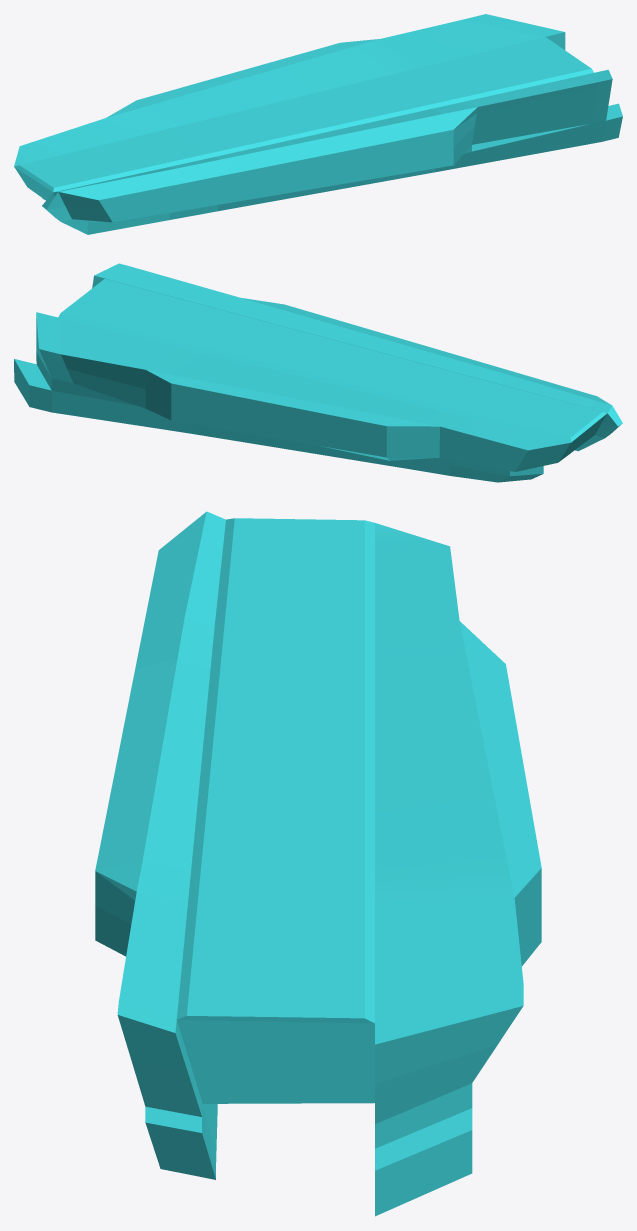
The model's file is bridge rework 2.fbx.
The picture shows the model from 3 angles, top to bottom: view 1: azimuth 30°, elevation 25°; view 2: azimuth 150°, elevation 25°; view 3: azimuth 270°, elevation 25°; orthographic projection. The views are drawn at different scales.
Parts seen in each view (by area): view 1: Birdge_rework_2_notwalk; view 2: Birdge_rework_2_notwalk; view 3: Birdge_rework_2_notwalk.
Part boxes in pixels (box(x1,y1,x2,y2)): Birdge_rework_2_notwalk: box(14, 14, 622, 234); Birdge_rework_2_notwalk: box(14, 263, 622, 482); Birdge_rework_2_notwalk: box(95, 511, 541, 1216).
Size of the model in its own units: 3528 by 483 by 1203.
